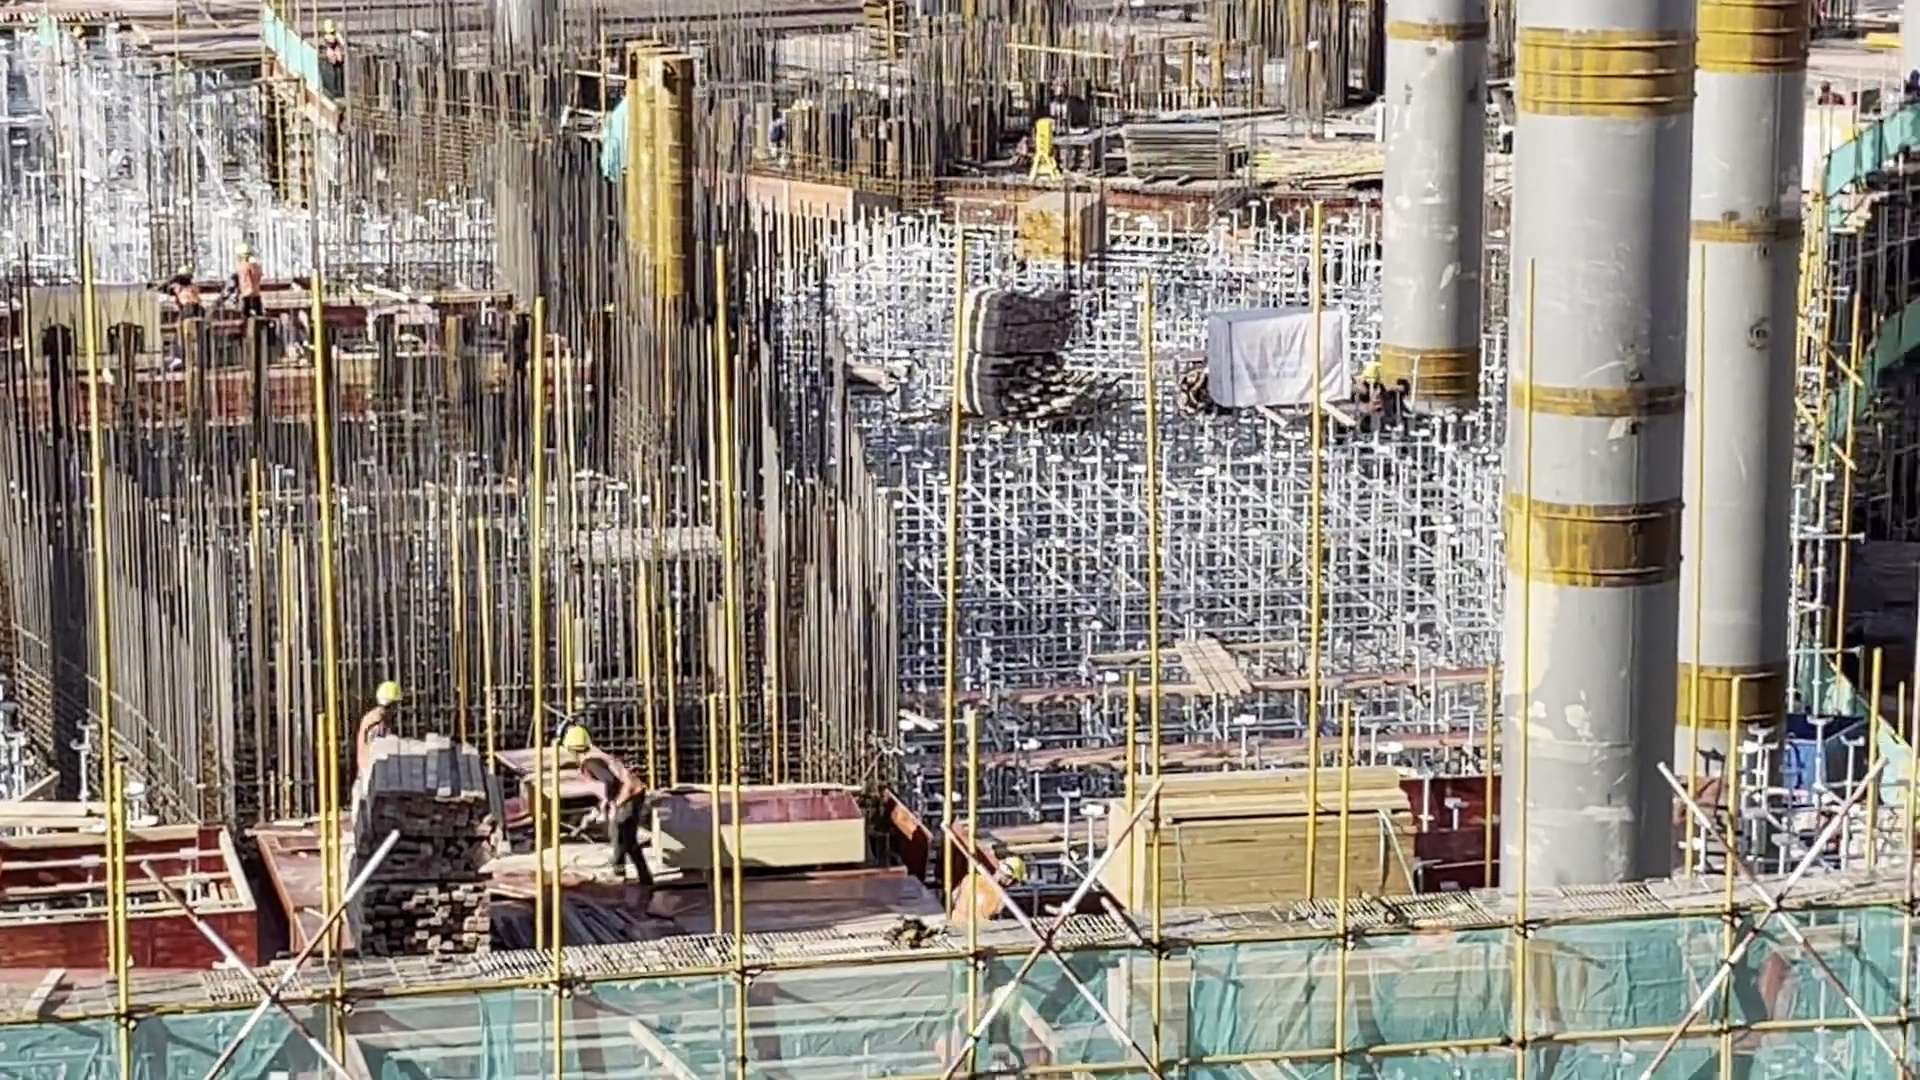helmet: (374, 674, 409, 724), (996, 853, 1041, 885), (560, 718, 583, 755), (231, 239, 259, 265), (172, 260, 196, 276)
person: (549, 716, 641, 917), (355, 660, 410, 817), (141, 249, 208, 365), (221, 232, 274, 372), (963, 832, 1023, 939)
vest: (570, 755, 634, 815), (944, 871, 1000, 929), (165, 285, 207, 312), (226, 267, 257, 294)
